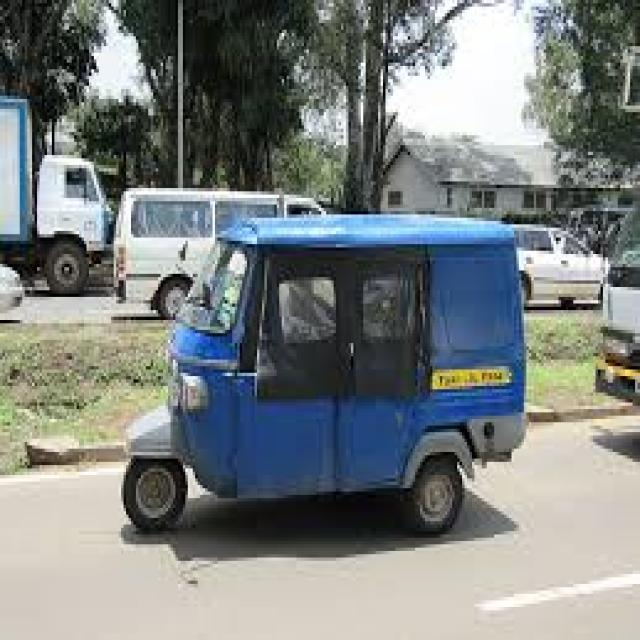matatu: (116, 183, 212, 262)
tuktuk: (217, 226, 531, 600)
